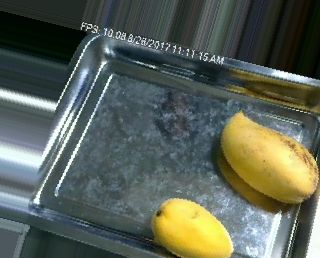Mango: (212, 101, 319, 214), (141, 188, 240, 256)
